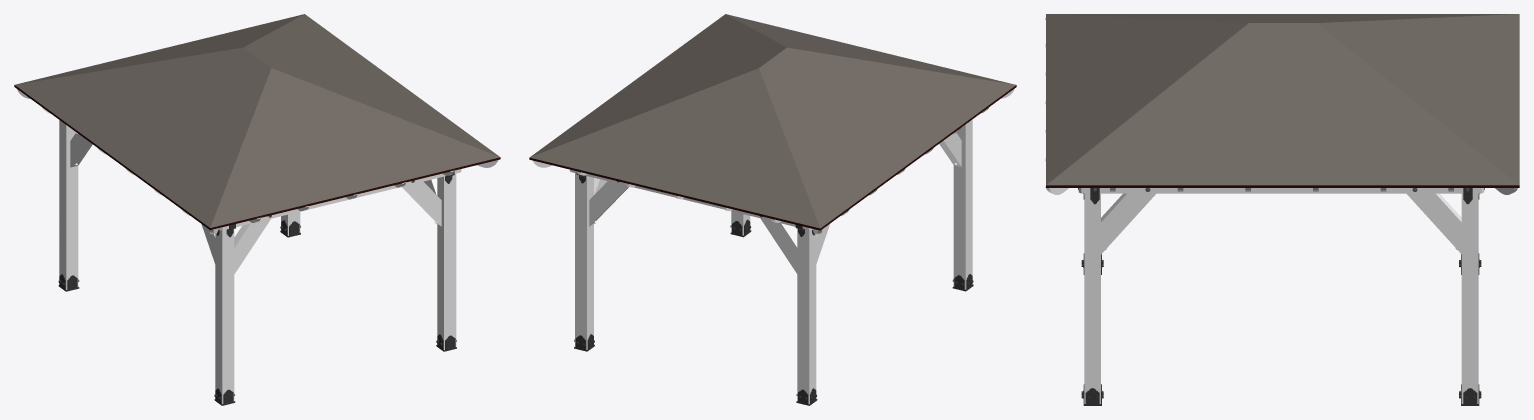
The model's file is saratoga-12x14-bullnose.obj.
The picture shows the model from 3 angles, left to right: view 1: azimuth 30°, elevation 25°; view 2: azimuth 150°, elevation 25°; view 3: azimuth 270°, elevation 25°; orthographic projection. The views are drawn at different scales.
Parts seen in each view (by area): view 1: Mesh228 shingles roof Group1 Model, Mesh179 Group72 Component_92_4 Group1 Model, Mesh81 Group44 Component_92_2 Group1 Model, Mesh130 Group58 Component_92_3 Group1 Model, Mesh229 roof Group1 Model, Mesh219 Component_91_7 Component_92_4 Group1 Model, Mesh121 Component_91_3 Component_92_2 Group1 Model, Mesh77 Component_135_1 Group1 Model, Mesh174 Component_91_6 Component_92_3 Group1 Model; view 2: Mesh228 shingles roof Group1 Model, Mesh130 Group58 Component_92_3 Group1 Model, Mesh1 Group3 Component_92_1 Group2 Group1 Model, Mesh179 Group72 Component_92_4 Group1 Model, Mesh229 roof Group1 Model, Mesh170 Component_91_5 Component_92_3 Group1 Model, Mesh41 Component_91_1 Component_92_1 Group2 Group1 Model, Mesh79 Component_135_2 Group1 Model, Mesh223 Component_91_8 Component_92_4 Group1 Model; view 3: Mesh228 shingles roof Group1 Model, Mesh1 Group3 Component_92_1 Group2 Group1 Model, Mesh81 Group44 Component_92_2 Group1 Model, Mesh80 Component_134_2 Group1 Model, Mesh45 Component_91_2 Component_92_1 Group2 Group1 Model, Mesh125 Component_91_4 Component_92_2 Group1 Model, Mesh229 roof Group1 Model.
Boxes of the visible parts, x1=… form: Mesh228 shingles roof Group1 Model: x1=15, y1=14, x2=499, y2=227; Mesh179 Group72 Component_92_4 Group1 Model: x1=215, y1=229, x2=234, y2=404; Mesh81 Group44 Component_92_2 Group1 Model: x1=437, y1=173, x2=456, y2=349; Mesh130 Group58 Component_92_3 Group1 Model: x1=59, y1=120, x2=78, y2=289; Mesh229 roof Group1 Model: x1=14, y1=85, x2=500, y2=230; Mesh219 Component_91_7 Component_92_4 Group1 Model: x1=234, y1=219, x2=270, y2=273; Mesh121 Component_91_3 Component_92_2 Group1 Model: x1=402, y1=181, x2=441, y2=226; Mesh77 Component_135_1 Group1 Model: x1=218, y1=169, x2=461, y2=230; Mesh174 Component_91_6 Component_92_3 Group1 Model: x1=70, y1=133, x2=92, y2=167; Mesh228 shingles roof Group1 Model: x1=530, y1=14, x2=1015, y2=228; Mesh130 Group58 Component_92_3 Group1 Model: x1=797, y1=228, x2=816, y2=404; Mesh1 Group3 Component_92_1 Group2 Group1 Model: x1=575, y1=173, x2=593, y2=349; Mesh179 Group72 Component_92_4 Group1 Model: x1=953, y1=119, x2=972, y2=289; Mesh229 roof Group1 Model: x1=529, y1=85, x2=1016, y2=230; Mesh170 Component_91_5 Component_92_3 Group1 Model: x1=760, y1=218, x2=797, y2=273; Mesh41 Component_91_1 Component_92_1 Group2 Group1 Model: x1=589, y1=181, x2=628, y2=226; Mesh79 Component_135_2 Group1 Model: x1=569, y1=169, x2=812, y2=229; Mesh223 Component_91_8 Component_92_4 Group1 Model: x1=939, y1=133, x2=961, y2=166; Mesh228 shingles roof Group1 Model: x1=1046, y1=14, x2=1519, y2=185; Mesh1 Group3 Component_92_1 Group2 Group1 Model: x1=1461, y1=193, x2=1478, y2=403; Mesh81 Group44 Component_92_2 Group1 Model: x1=1084, y1=193, x2=1100, y2=403; Mesh80 Component_134_2 Group1 Model: x1=1090, y1=188, x2=1472, y2=193; Mesh45 Component_91_2 Component_92_1 Group2 Group1 Model: x1=1407, y1=193, x2=1461, y2=253; Mesh125 Component_91_4 Component_92_2 Group1 Model: x1=1101, y1=193, x2=1155, y2=254; Mesh229 roof Group1 Model: x1=1046, y1=185, x2=1519, y2=187.
Bounding box in the file's own units: 144 × 123 × 168.
